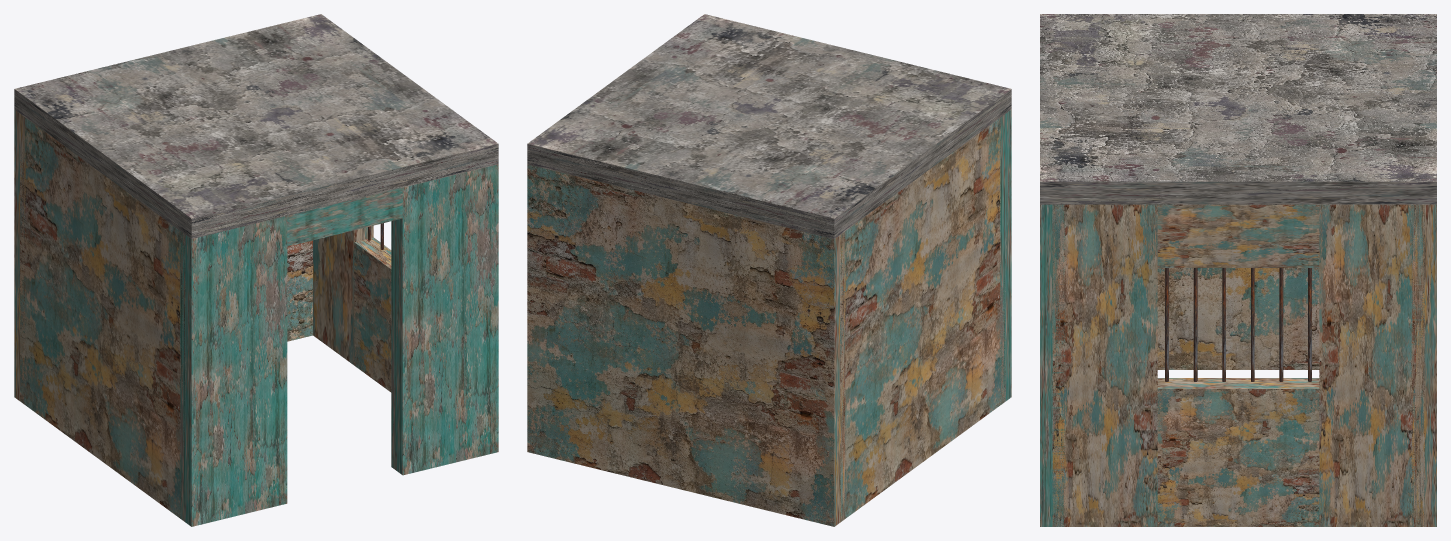
File: prop_chilekotha.glb
3 views of the same model, side by side, from view 1: azimuth 30°, elevation 25°; view 2: azimuth 150°, elevation 25°; view 3: azimuth 270°, elevation 25° (orthographic). The views are drawn at different scales.
Parts seen in each view (by area): view 1: prop_chilekotha; view 2: prop_chilekotha; view 3: prop_chilekotha.
Part boxes in pixels (x1,y1,x2,y2): prop_chilekotha: (14,14,498,526); prop_chilekotha: (527,14,1011,526); prop_chilekotha: (1040,14,1436,526).
Bounding box in the file's own units: 2.5 × 2.4 × 2.5.
5 materials, 5 textured.
